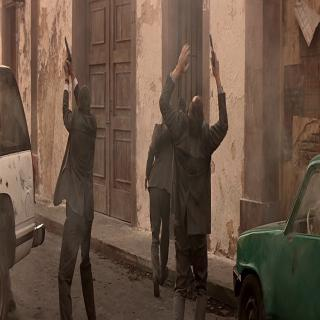gun: (205, 29, 219, 83), (59, 32, 73, 82)
